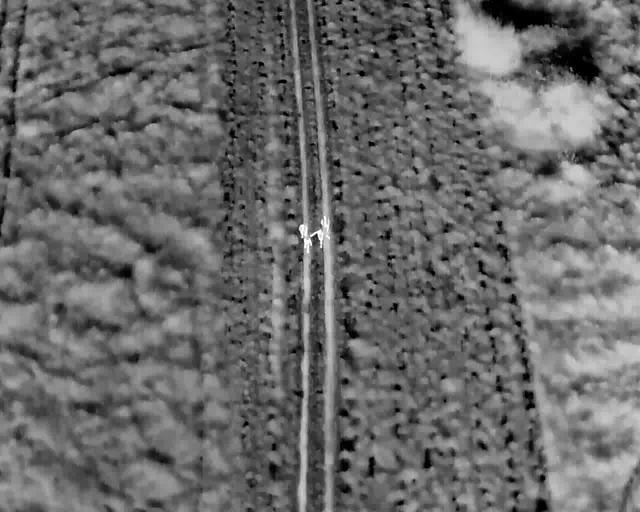person: (310, 228, 331, 248), (320, 214, 330, 239), (298, 221, 309, 243), (302, 235, 313, 254)
